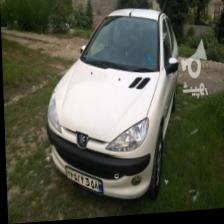plate: (66, 164, 102, 198)
